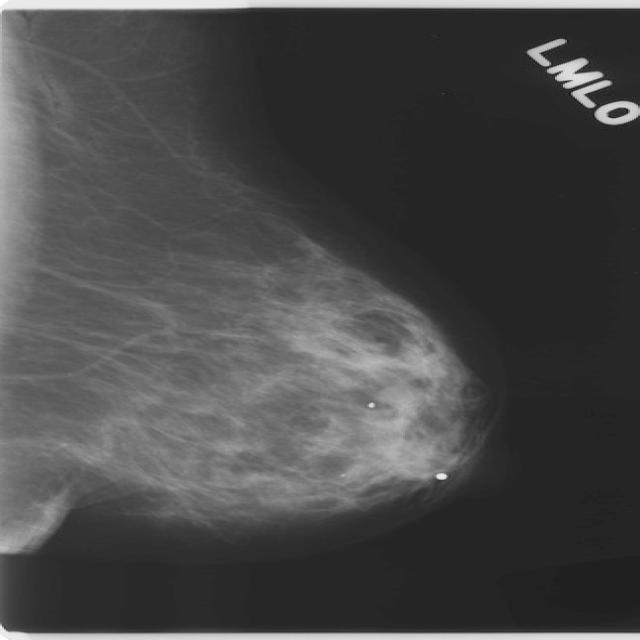tumour: (363, 434, 452, 479)
